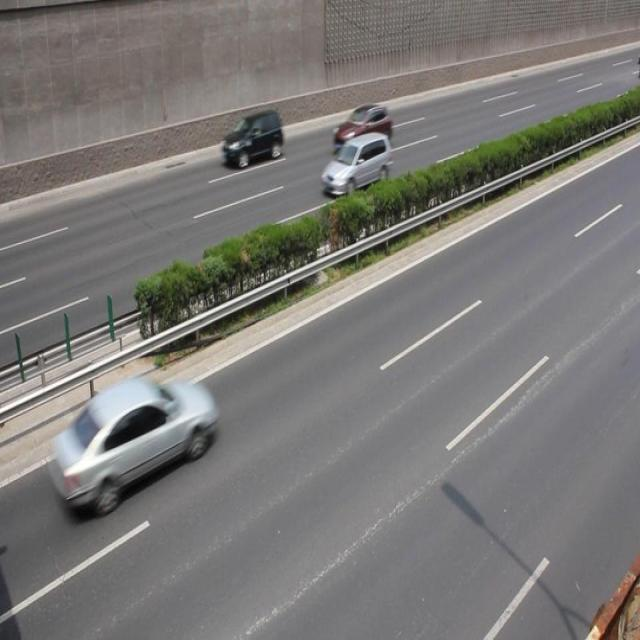car: (61, 373, 215, 508), (321, 131, 390, 198), (222, 112, 282, 169), (332, 103, 391, 157)
